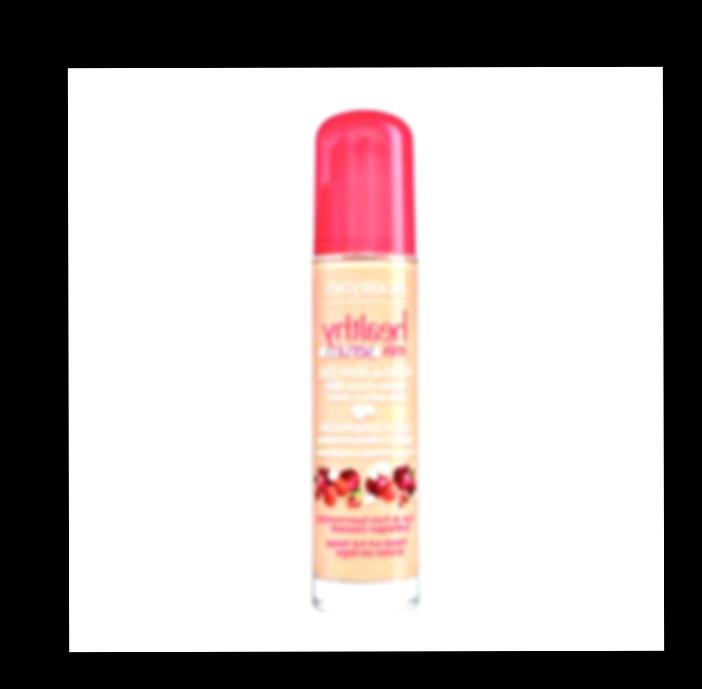cosmetic: (310, 109, 422, 609)
